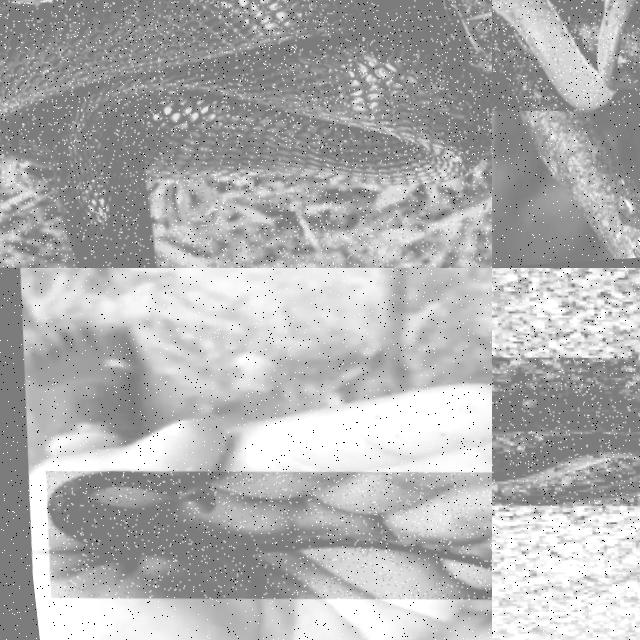Calliophis intestinalis: (47, 471, 491, 569)
Calloselasma rhodostoma: (492, 406, 639, 483)
Naja kaouthia: (0, 0, 491, 267)
Trimeresurus: (492, 0, 638, 110)
